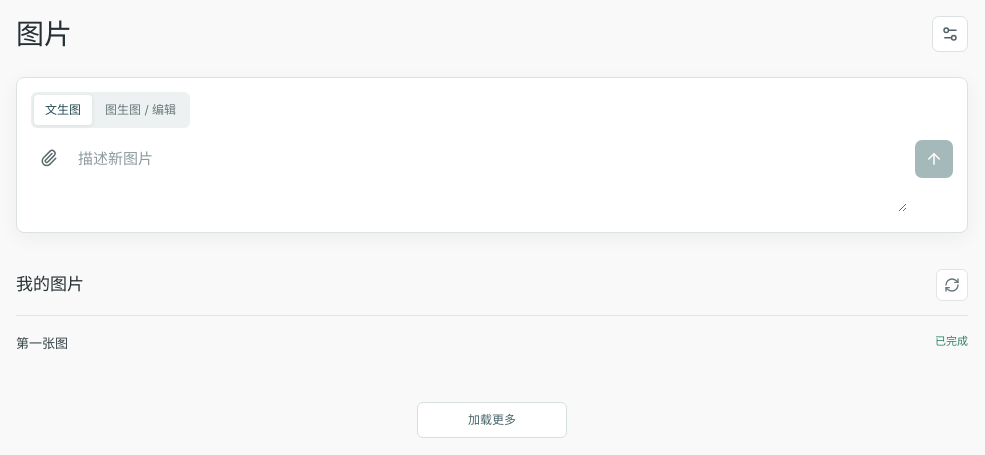
Test: ImageGenerationWorkbench › 历史分页只追加工作台 execution 批次
Expected: the text "第一张图" is shown, [16,333,68,353]
Click the button "加载更多": coordinates (492, 420) [417,402,567,438]
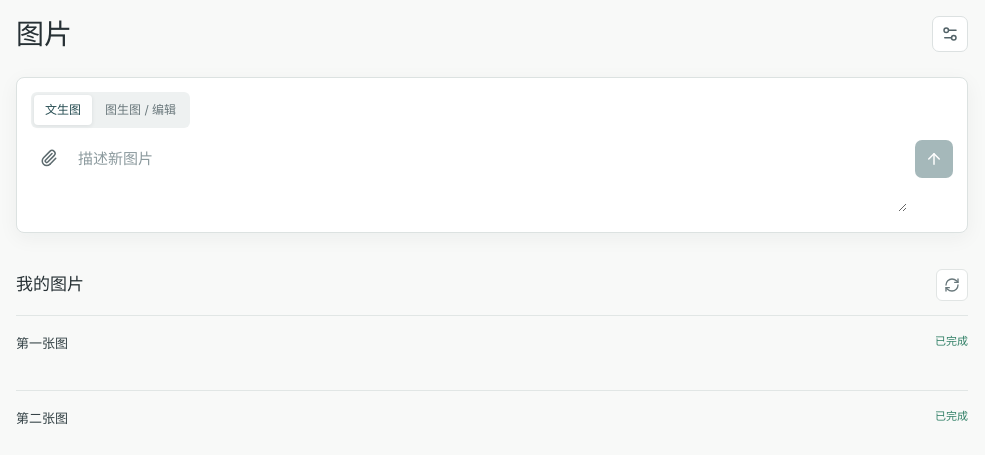
Expected: the text "第二张图" is shown, [16,408,68,428]
